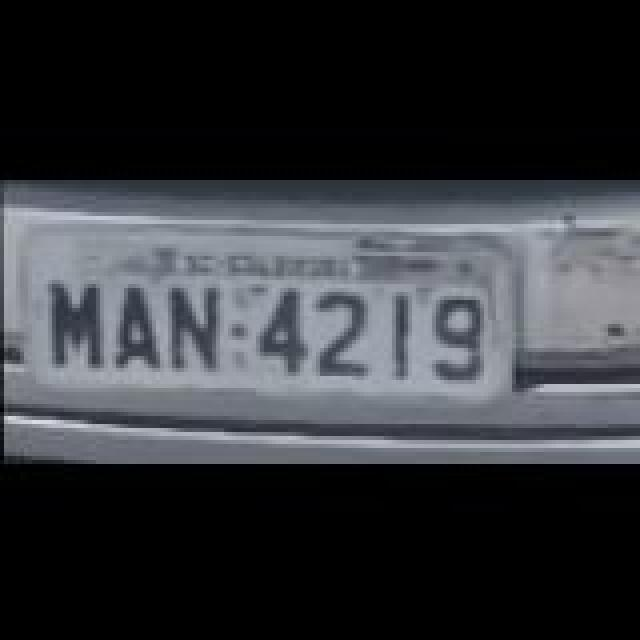1: (392, 290, 412, 374)
2: (312, 290, 372, 374)
4: (256, 284, 308, 372)
9: (430, 292, 486, 380)
A: (110, 280, 166, 368)
M: (46, 276, 110, 364)
N: (168, 280, 228, 368)
